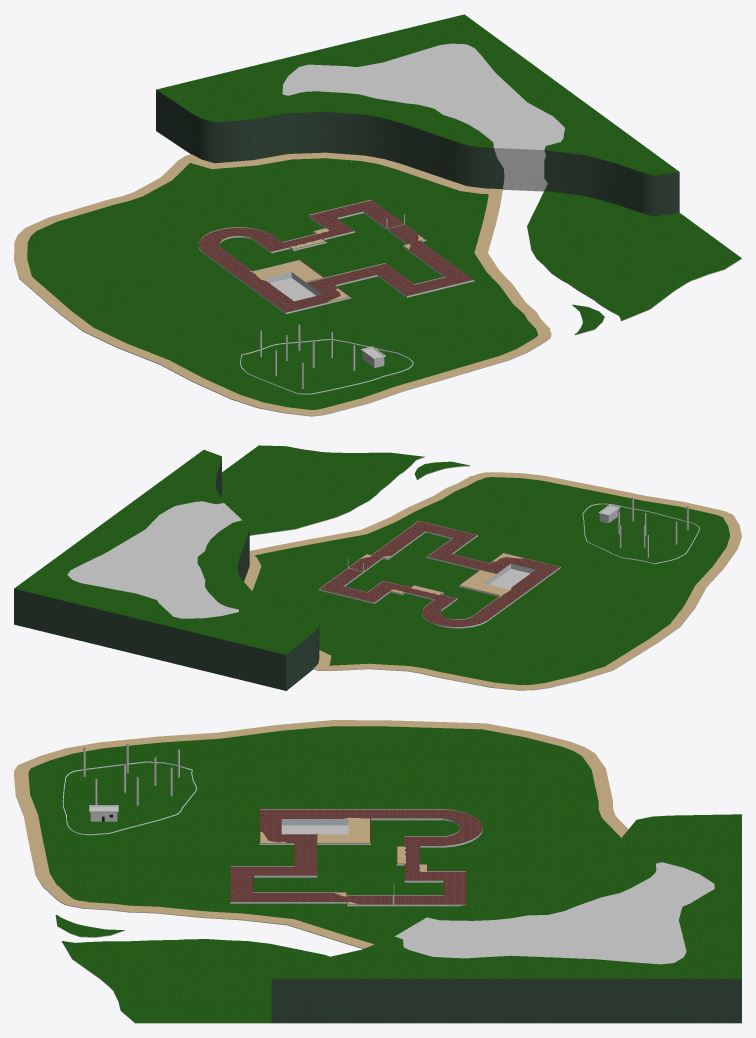
3 renders of one model, top to bottom at view 1: azimuth 30°, elevation 25°; view 2: azimuth 150°, elevation 25°; view 3: azimuth 270°, elevation 25°, orthographic. The views are drawn at different scales.
Parts seen in each view (by area): view 1: SketchUp (×13); view 2: SketchUp (×15); view 3: SketchUp (×16).
Boxes of the visible parts, left/top/right/bottom form: SketchUp (×13): left=14, top=14, right=741, bottom=416; SketchUp (×15): left=14, top=445, right=741, bottom=690; SketchUp (×16): left=14, top=720, right=741, bottom=1023.
Size of the model in its own units: 3630 by 3684 by 278.
